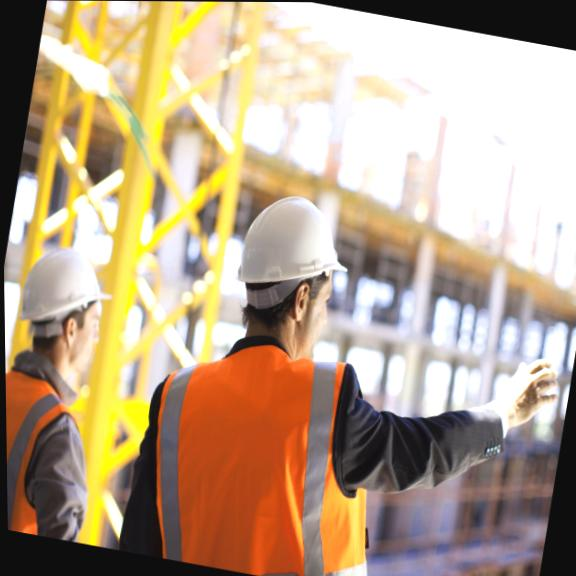safety_vest: (120, 325, 394, 576), (5, 364, 122, 545)
